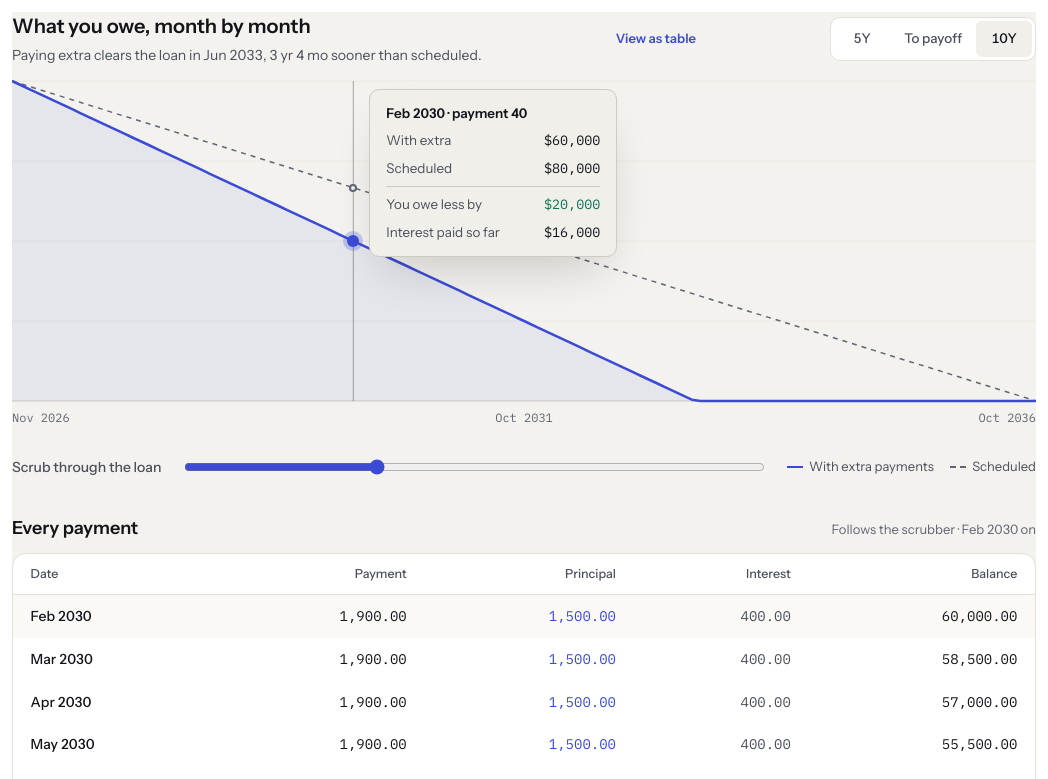
BalanceChartComponent › reads the balances at the month scrubbed to: on the chart, in the tooltip and to a screen reader
Set the slider with test id "scrubber" to "24" at (301, 467), box [184,445,765,489]
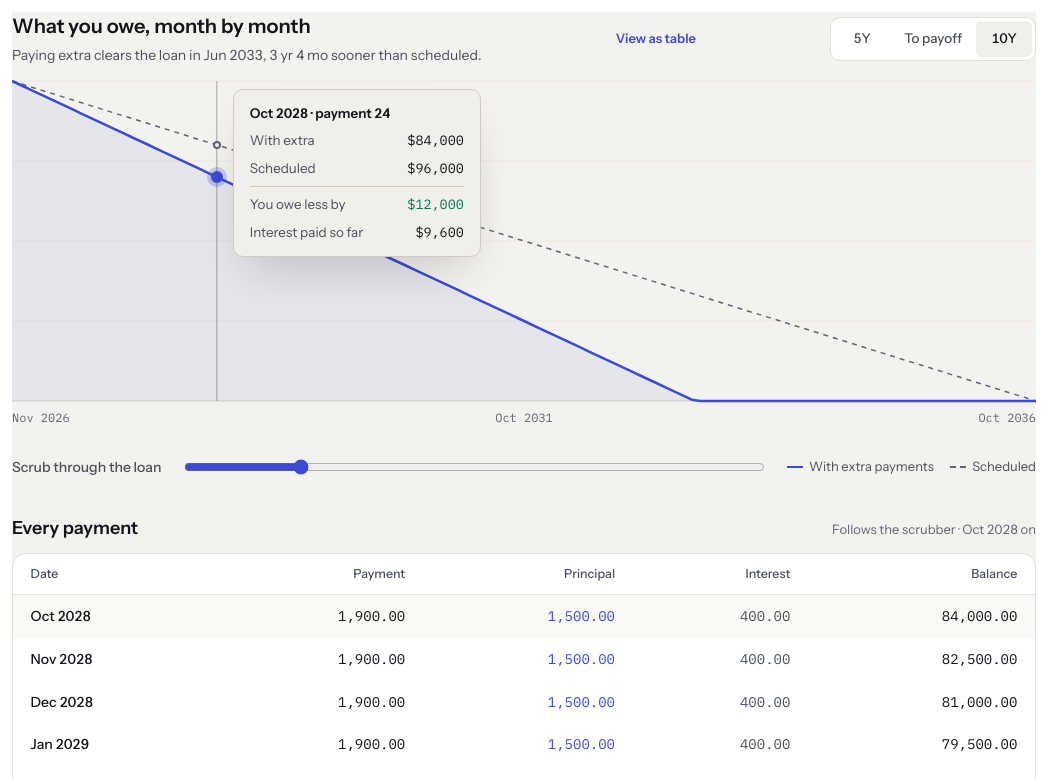
Now the text "Oct 2028 · payment 24" is shown, box [250,105,390,121]
